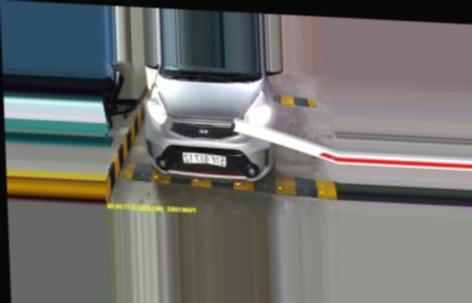License_Plate: (180, 149, 228, 171)
